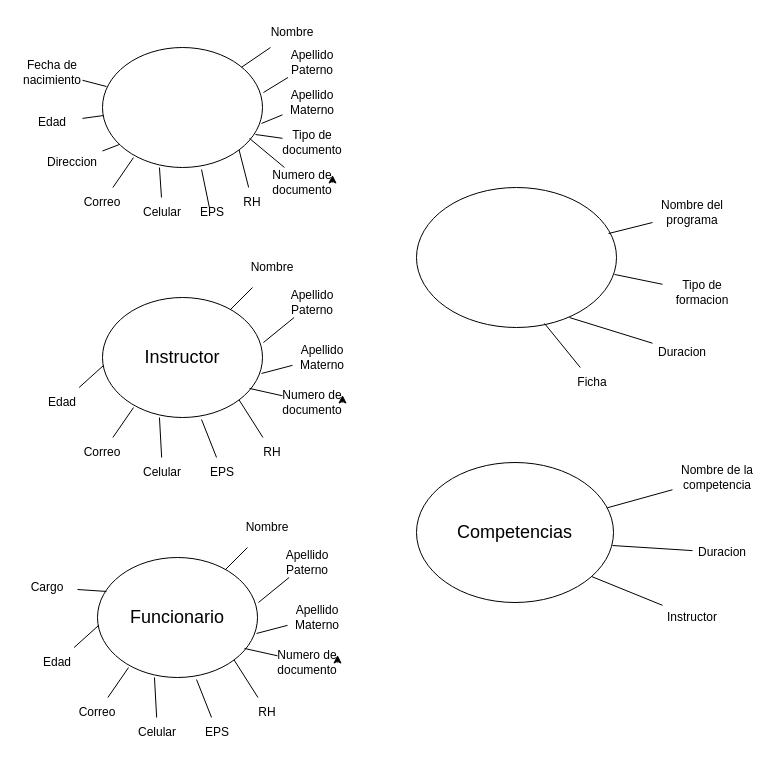
The diagram is 779 pixels wide and 764 high, and some of its shapes have lost their labels. The centre of each missing label's shape, as x and y in pixels:
Aprendiz: point 182,107
Programas: point 516,257
